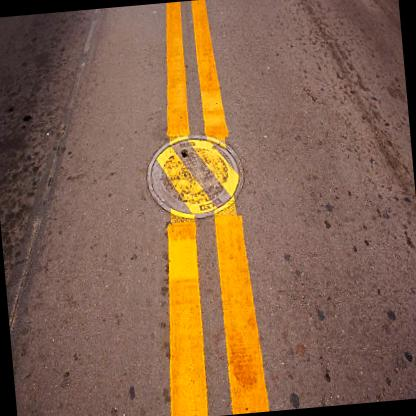manholes: (134, 120, 267, 239)
